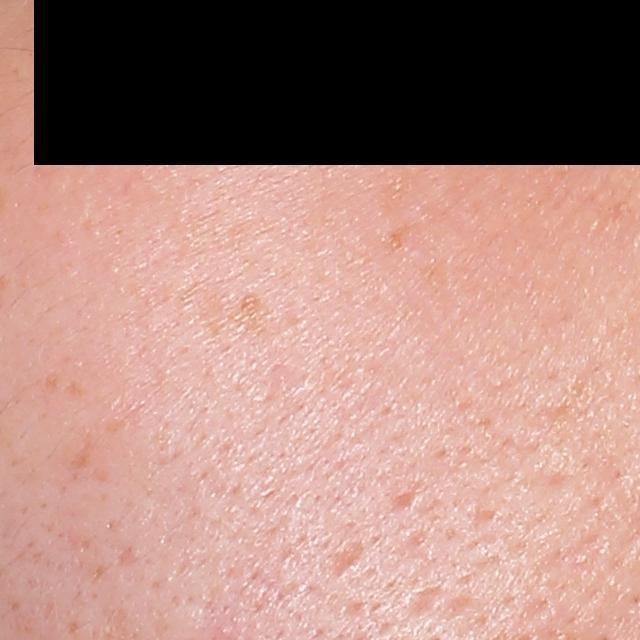atrophic_scar: (324, 534, 366, 585), (402, 582, 440, 620), (387, 484, 418, 514)
melasma: (175, 275, 270, 345), (371, 156, 423, 220), (379, 223, 408, 249)
